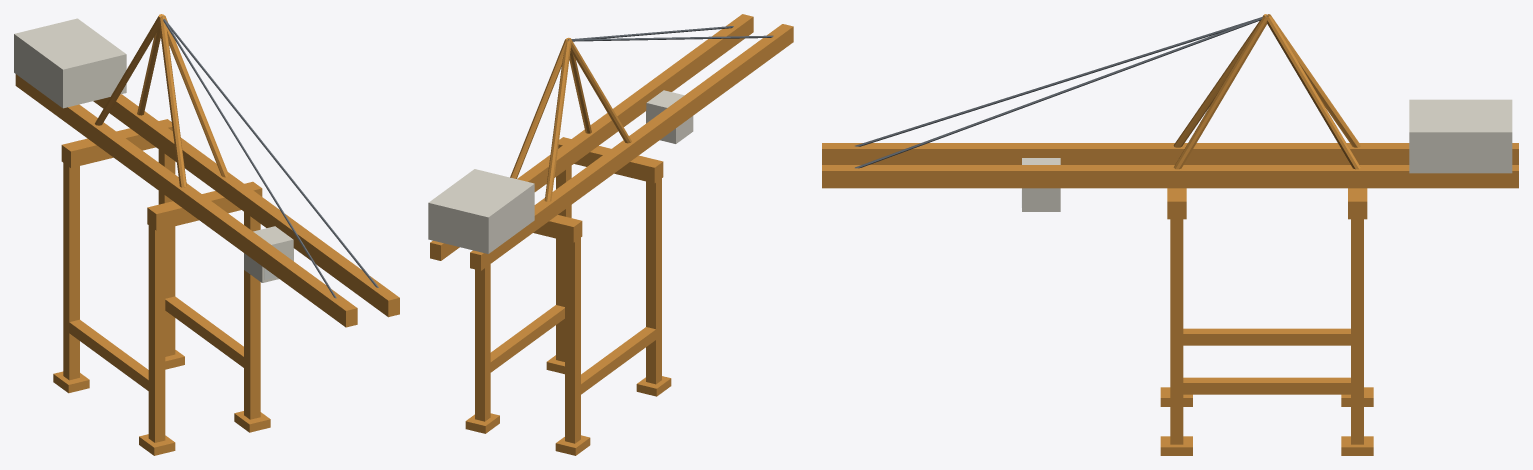
The model's file is container_gantry.glb.
The picture shows the model from 3 angles, left to right: view 1: azimuth 30°, elevation 25°; view 2: azimuth 150°, elevation 25°; view 3: azimuth 270°, elevation 25°; orthographic projection. The views are drawn at different scales.
Visible parts, largest first — view 1: LOD0; view 2: LOD0; view 3: LOD0.
Boxes of the visible parts, x1,y1,x2,y2 form: LOD0: (14,14,399,455); LOD0: (428,14,793,455); LOD0: (822,14,1518,455).
Size of what is drawn, in the model's own units: 22 by 70.31 by 108.
